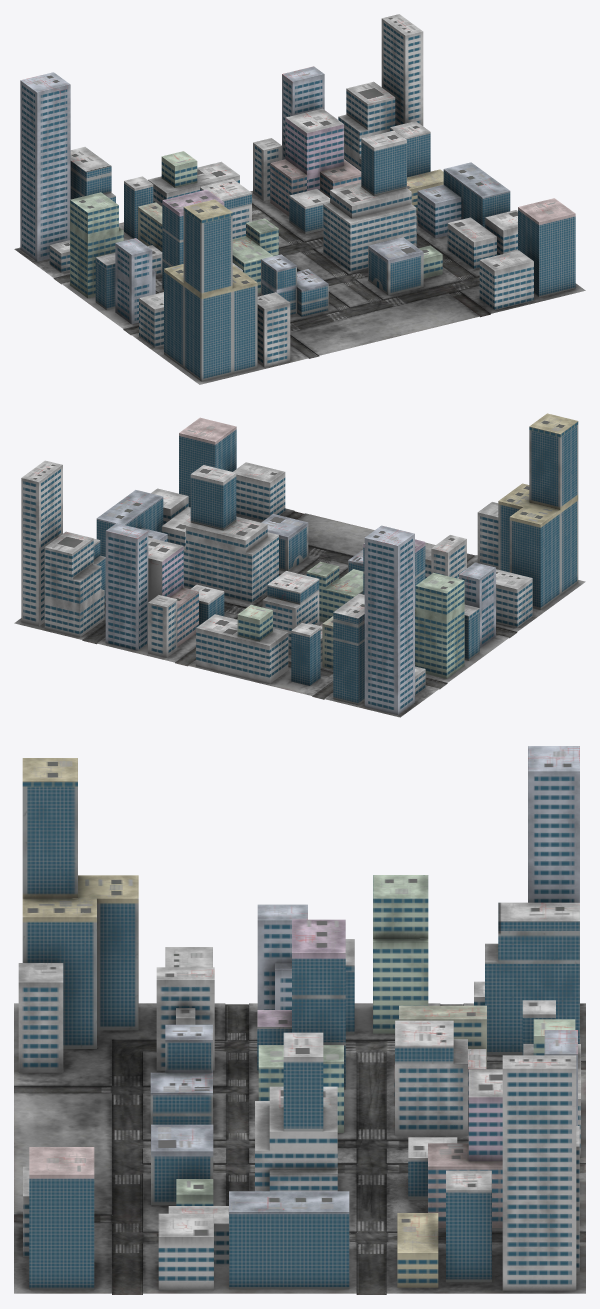
3 views of the same model, one above another, from view 1: azimuth 30°, elevation 25°; view 2: azimuth 150°, elevation 25°; view 3: azimuth 270°, elevation 25° (orthographic). The views are drawn at different scales.
Visible parts, largest first — view 1: Tiny_City; view 2: Tiny_City; view 3: Tiny_City.
Part boxes in pixels (bbox=[...]): Tiny_City: bbox=[14, 14, 585, 384]; Tiny_City: bbox=[14, 413, 585, 717]; Tiny_City: bbox=[14, 746, 585, 1294].
Size of the model in its own units: 7.34 by 3.08 by 6.11.
Materials: 2 (2 with a texture image).
